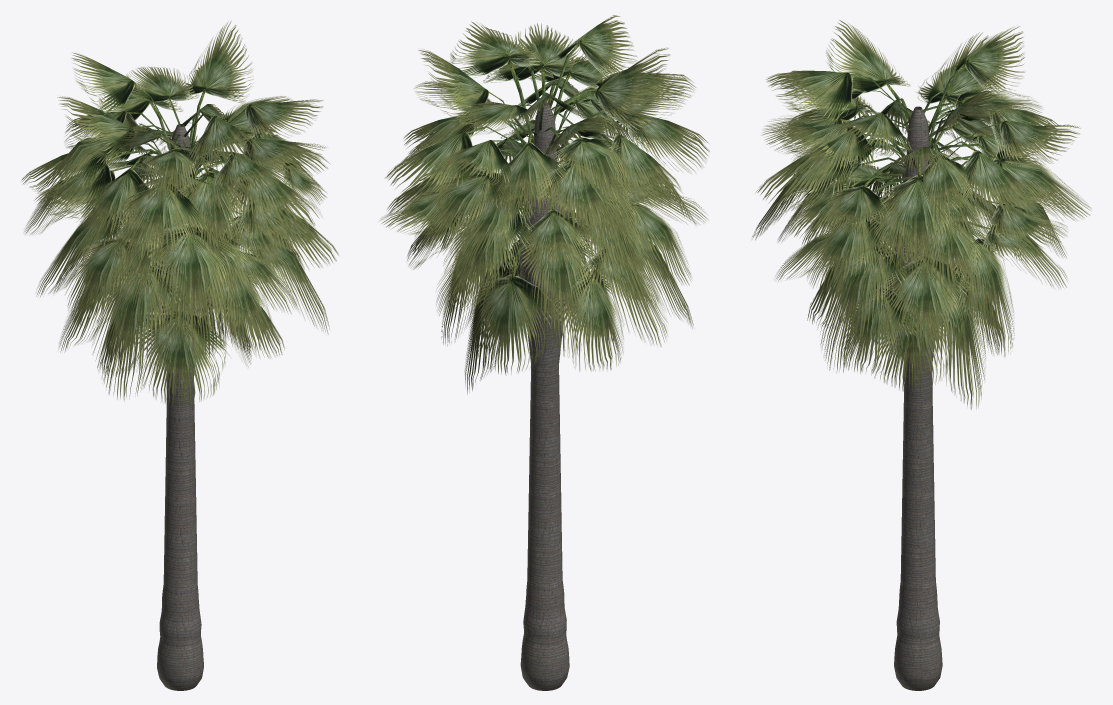
The model's file is sabal_palm.glb.
3 renders of one model, left to right at view 1: azimuth 30°, elevation 25°; view 2: azimuth 150°, elevation 25°; view 3: azimuth 270°, elevation 25°, orthographic. The views are drawn at different scales.
Visible parts, largest first — view 1: PalmBark_w; view 2: PalmBark_w; view 3: PalmBark_w.
Boxes of the visible parts, <box> form: PalmBark_w: <box>21,21,338,690</box>; PalmBark_w: <box>379,15,709,690</box>; PalmBark_w: <box>752,20,1091,690</box>.
Bounding box in the file's own units: 5.11 × 11 × 5.51.
Materials: 2 (2 with a texture image).
